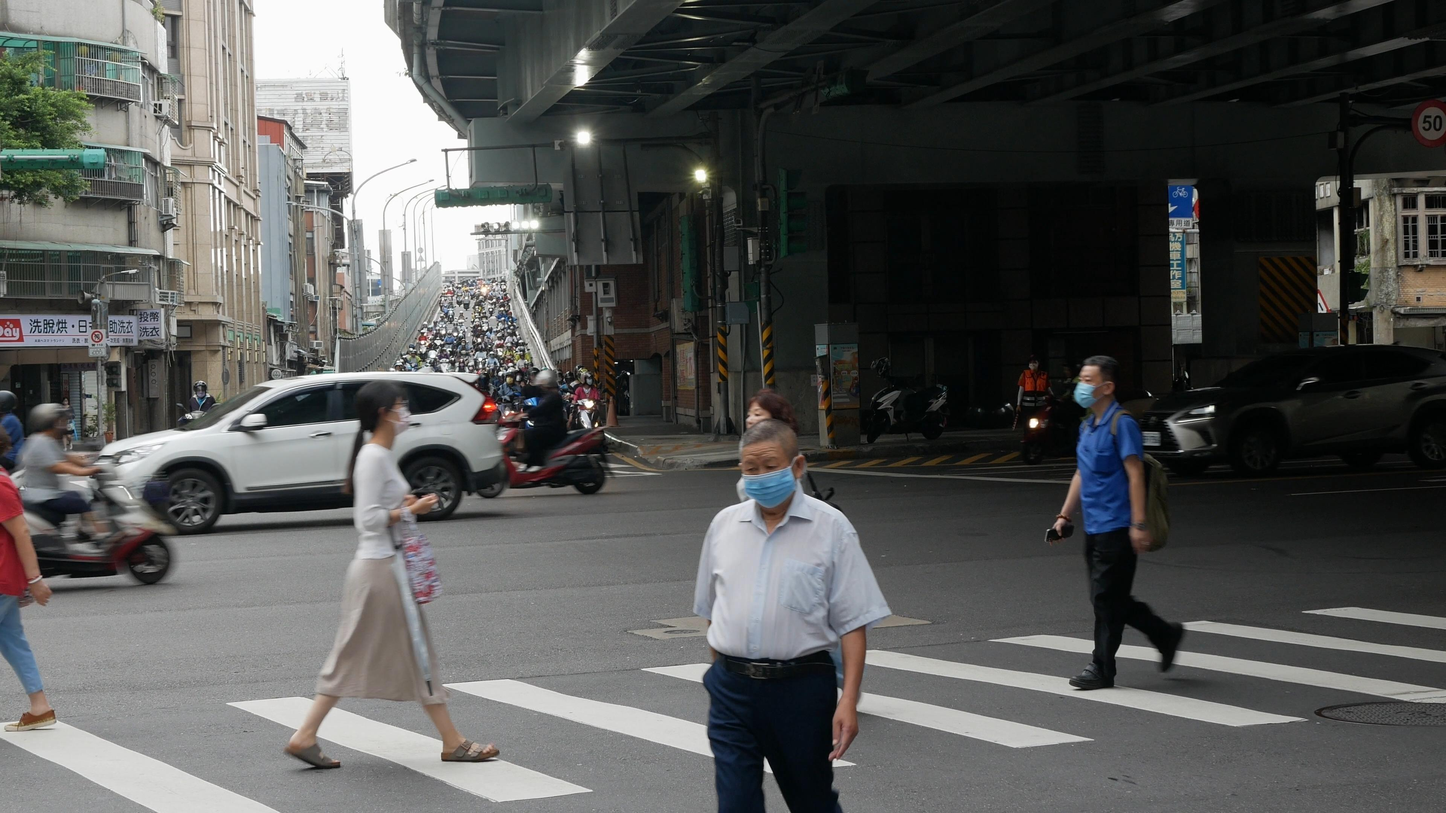driver: (0, 402, 176, 584), (475, 369, 605, 498), (1022, 360, 1081, 464), (568, 371, 610, 454)
helmet: (29, 403, 73, 440), (534, 370, 558, 391), (1061, 360, 1082, 383), (0, 390, 19, 414), (193, 381, 208, 398), (477, 372, 490, 389), (581, 371, 594, 386), (527, 367, 540, 381), (505, 371, 517, 384)
no-helmet: (738, 418, 805, 510), (356, 381, 412, 437), (1074, 355, 1122, 408), (745, 388, 798, 428)
